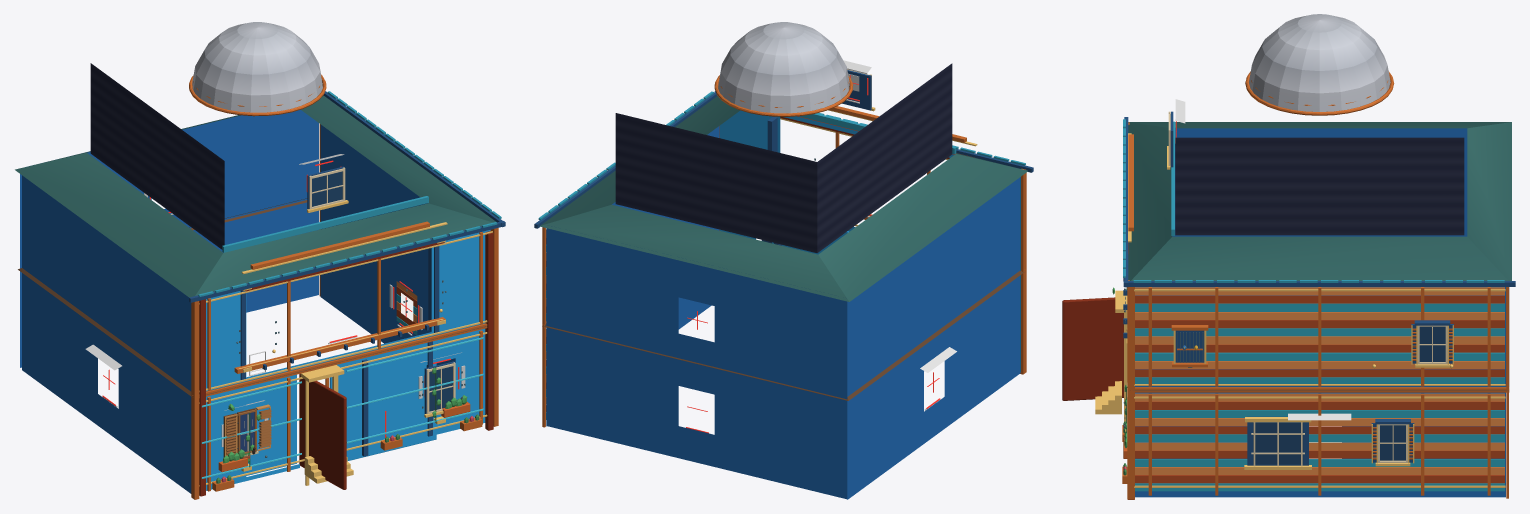
Rendered from exterior-home-DaRKIC_W.glb.
3 renders of one model, left to right at view 1: azimuth 30°, elevation 25°; view 2: azimuth 150°, elevation 25°; view 3: azimuth 270°, elevation 25°, orthographic. The views are drawn at different scales.
Parts seen in each view (by area): view 1: WallLeft, RoofMain, WallBack, WallFront, ObsLeft, WallRight, ObsDome, EXT_GroundFacade_Right, EXT_EntryDoorLeaf, EXT_GroundFacade_Left, BeltCourse, CUTAWAY_CornerSoft_0 (+19 smaller); view 2: WallBack, WallLeft, RoofMain, ObsBack, ObsLeft, ObsDome, WallFront, BeltCourse, CUTAWAY_CornerSoft_0, WallRight, EXT_Corner_9.49_9.49, EXT_Eave_Right (+2 smaller); view 3: ObsRight, RoofMain, ObsDome, EXT_EntryDoorLeaf, WallRight, WallLeft, EXT_Right_Lower_Board_1, EXT_Right_Lower_Board_10, EXT_Right_Upper_Board_1, EXT_Right_Upper_Board_9, EXT_Right_Upper_Board_10, EXT_Right_Upper_Board_8 (+35 smaller).
Part boxes in pixels (box(x1,y1,x2,y2)): WallLeft: box(22, 175, 191, 493); RoofMain: box(15, 95, 495, 297); WallBack: box(20, 109, 318, 367); WallFront: box(206, 230, 490, 490); ObsLeft: box(90, 63, 224, 249); WallRight: box(320, 124, 455, 365); ObsDome: box(192, 22, 322, 112); EXT_GroundFacade_Right: box(329, 343, 436, 460); EXT_EntryDoorLeaf: box(299, 373, 346, 489); EXT_GroundFacade_Left: box(228, 374, 296, 475); BeltCourse: box(18, 198, 487, 396); CUTAWAY_CornerSoft_0: box(191, 301, 199, 499); WallBack: box(546, 226, 847, 499); WallLeft: box(847, 177, 1020, 499); RoofMain: box(539, 96, 1027, 301); ObsBack: box(615, 113, 817, 252); ObsLeft: box(817, 63, 952, 252); ObsDome: box(718, 22, 849, 113); WallFront: box(720, 110, 1020, 371); BeltCourse: box(542, 271, 1024, 400); CUTAWAY_CornerSoft_0: box(1020, 168, 1026, 374); WallRight: box(546, 126, 719, 426); EXT_Corner_9.49_9.49: box(542, 227, 545, 427); EXT_Eave_Right: box(534, 91, 717, 228); ObsRight: box(1175, 137, 1464, 235); RoofMain: box(1128, 122, 1511, 280); ObsDome: box(1249, 14, 1390, 111); EXT_EntryDoorLeaf: box(1062, 297, 1123, 400); WallRight: box(1135, 287, 1505, 497); WallLeft: box(1172, 128, 1467, 236); EXT_Right_Lower_Board_1: box(1135, 475, 1504, 483); EXT_Right_Lower_Board_10: box(1135, 401, 1504, 409); EXT_Right_Upper_Board_1: box(1135, 369, 1504, 377); EXT_Right_Upper_Board_9: box(1135, 303, 1504, 311); EXT_Right_Upper_Board_10: box(1135, 295, 1504, 303); EXT_Right_Upper_Board_8: box(1135, 312, 1504, 319).
Size of the model in its own units: 20.18 by 23.02 by 22.91.
